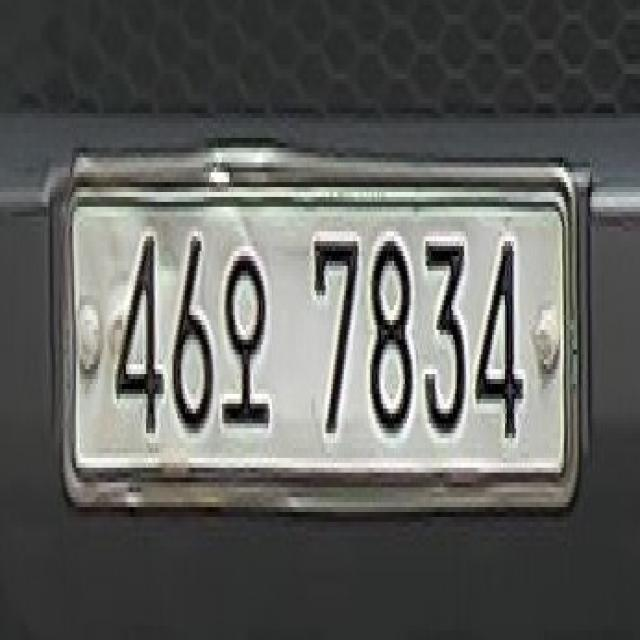3: (420, 232, 470, 451)
4: (112, 224, 168, 458), (474, 228, 526, 453)
6: (174, 230, 214, 458)
7: (303, 231, 363, 458)
8: (365, 232, 418, 460)
license_plate: (49, 137, 588, 524)
o: (218, 242, 278, 447)
